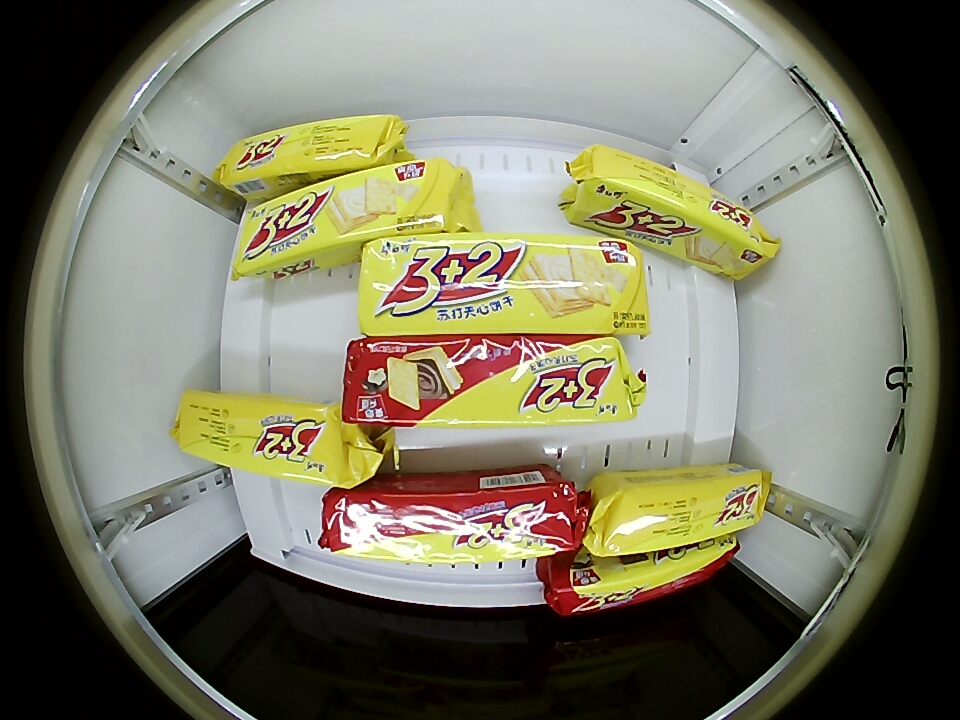3+2-2: (355, 233, 650, 335), (235, 161, 458, 273), (574, 145, 772, 262), (586, 468, 769, 558), (174, 393, 350, 483), (217, 114, 403, 192)
3jia2: (349, 335, 633, 427), (325, 476, 579, 564), (550, 542, 736, 616)
